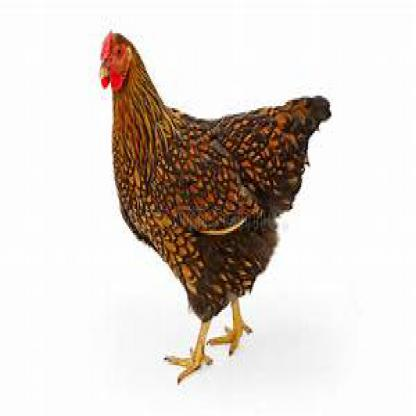chicken: (97, 29, 331, 383)
